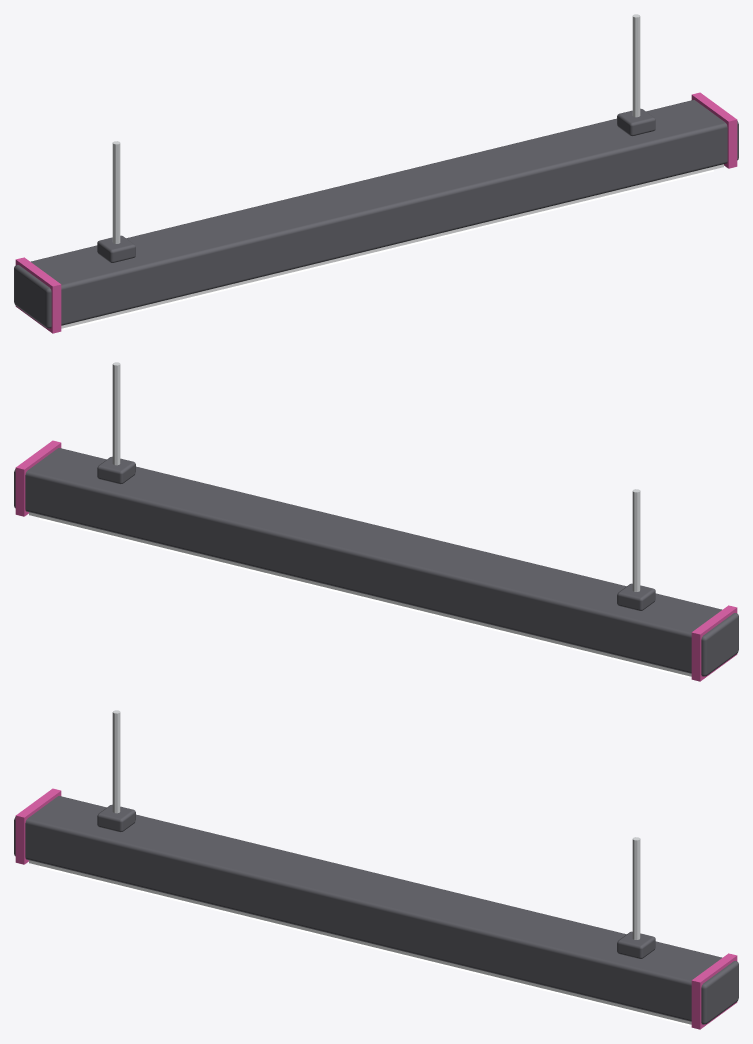
File: tattoo-and-piercing-studio-ceiling-light-bar-fa0d499e__34564.glb
The picture shows the model from 3 angles, top to bottom: view 1: azimuth 30°, elevation 25°; view 2: azimuth 150°, elevation 25°; view 3: azimuth 330°, elevation 25°; orthographic projection.
Visible parts, largest first — view 1: ceiling-light-bar; view 2: ceiling-light-bar; view 3: ceiling-light-bar.
Part boxes in pixels (x1,y1,x2,y2): ceiling-light-bar: (14, 14, 738, 333); ceiling-light-bar: (14, 362, 738, 681); ceiling-light-bar: (14, 710, 738, 1029).
Bounding box in the file's own units: 1.6 × 0.358 × 0.1479.
